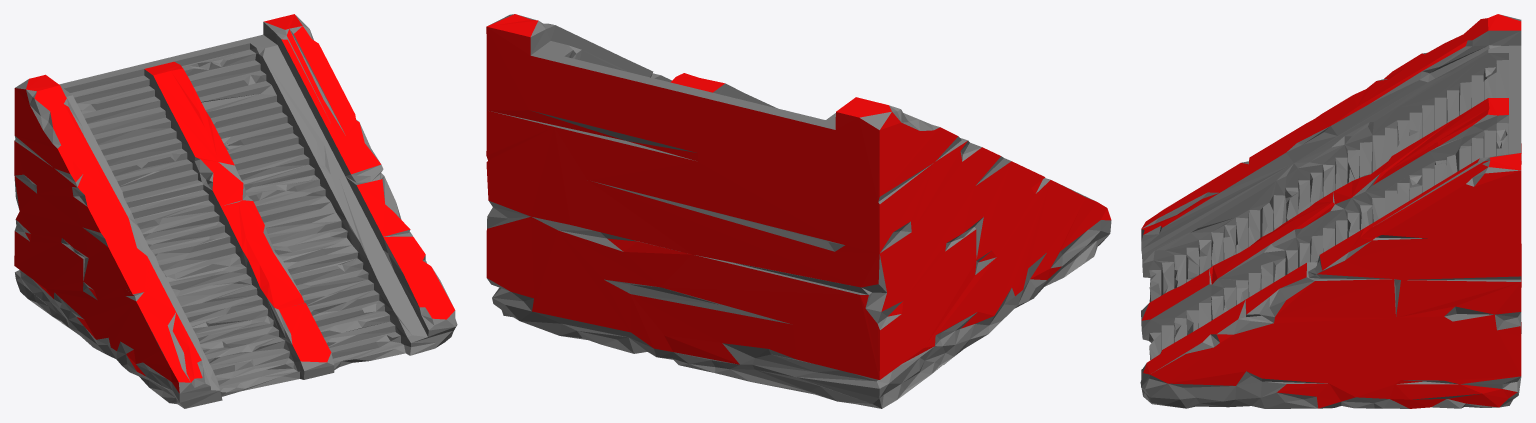
The model's file is Stairs07.fbx.
The picture shows the model from 3 angles, left to right: view 1: azimuth 30°, elevation 25°; view 2: azimuth 150°, elevation 25°; view 3: azimuth 270°, elevation 25°; orthographic projection. The views are drawn at different scales.
Visible parts, largest first — view 1: Stairs07; view 2: Stairs07; view 3: Stairs07.
Boxes of the visible parts, x1,y1,x2,y2 form: Stairs07: (14, 14, 457, 408); Stairs07: (486, 14, 1111, 408); Stairs07: (1140, 14, 1521, 408).
Bounding box in the file's own units: 1128 × 801 × 1153.
